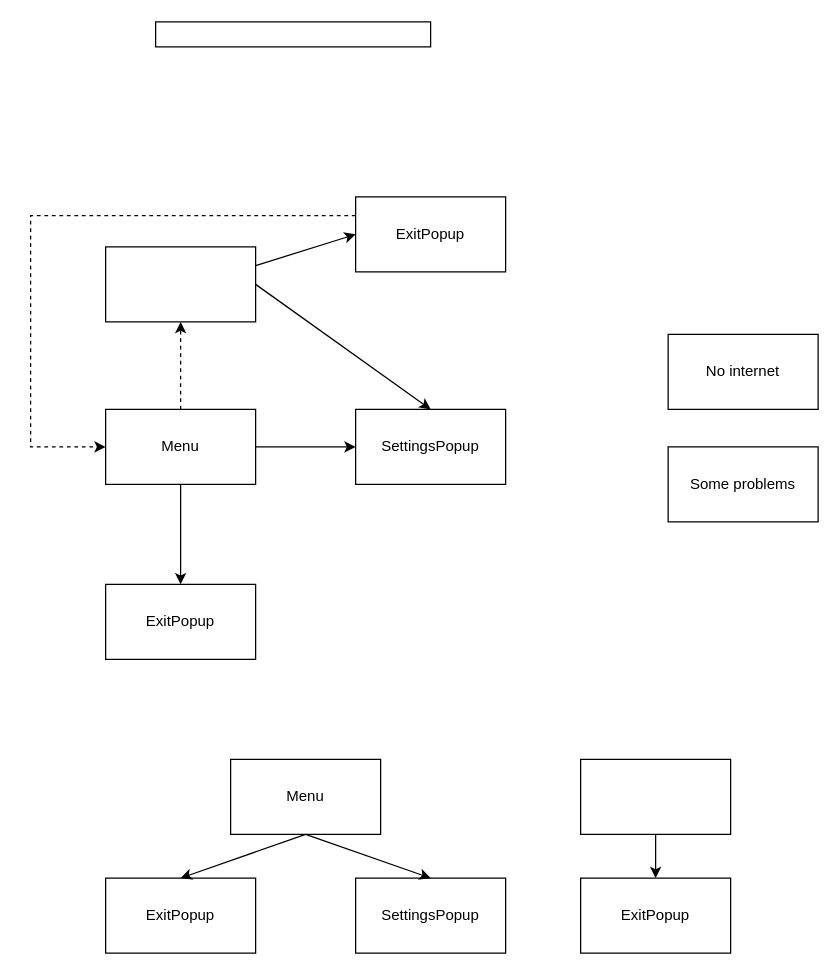
The diagram is 840 pixels wide and 975 high, and some of its shapes have lost their labels. Here are the shapes that lost their labels. From the top down, the box of each, then its label:
(104, 246, 256, 322): Main Ui
(579, 758, 731, 834): Main
